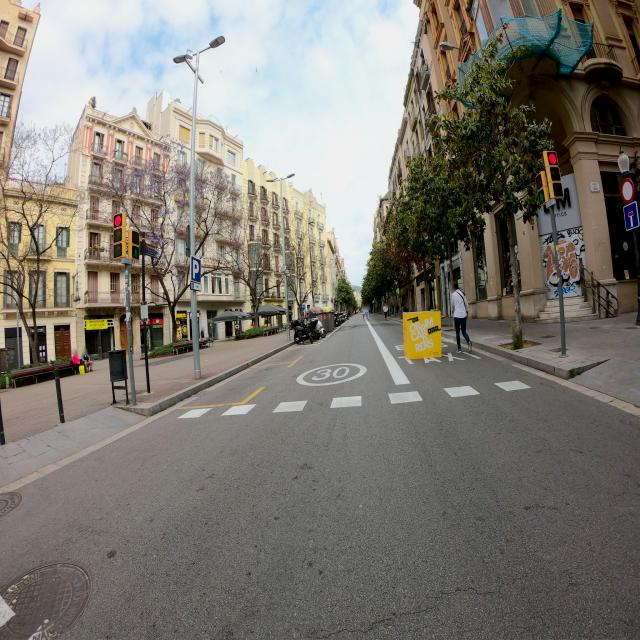bike: (294, 316, 316, 344), (308, 312, 326, 338)
